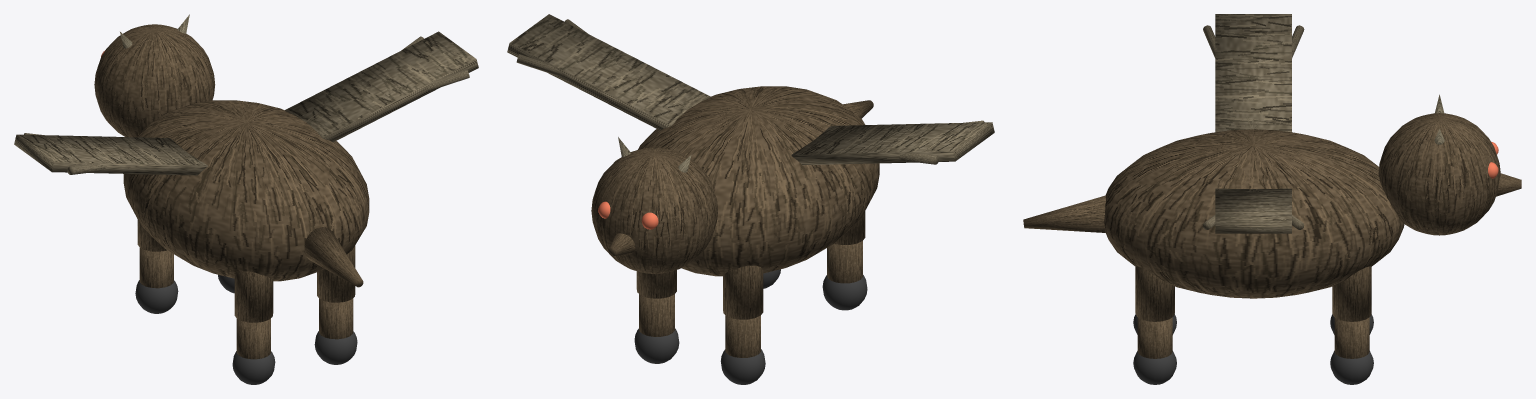
The model's file is ur-dragon.glb.
3 views of the same model, side by side, from view 1: azimuth 30°, elevation 25°; view 2: azimuth 150°, elevation 25°; view 3: azimuth 270°, elevation 25° (orthographic). The views are drawn at different scales.
Parts seen in each view (by area): view 1: Body, Head, Wing.001, Wing, LegUpper, Tail, LegLower.002, LegLower, LegLower.001, LegUpper.002, Paw.002, Paw (+3 smaller); view 2: Body, Head, Wing.001, Wing, LegUpper.001, LegLower.003, LegLower.001, LegLower, Paw, Paw.001, Paw.003, LegUpper.003 (+3 smaller); view 3: Body, Head, Wing, Wing.001, Tail, LegUpper.002, LegUpper.003, LegLower.002, LegLower.003, Paw.003, Paw.002.
Part boxes in pixels (box(x1,y1,x2,y2)): Body: box(123, 100, 369, 281); Head: box(94, 24, 215, 137); Wing.001: box(285, 31, 478, 142); Wing: box(14, 134, 207, 175); LegUpper: box(234, 271, 273, 322); Tail: box(304, 227, 363, 287); LegLower.002: box(319, 298, 353, 339); LegLower: box(236, 318, 270, 359); LegLower.001: box(139, 247, 173, 288); LegUpper.002: box(317, 245, 355, 302); Paw.002: box(314, 331, 357, 364); Paw: box(232, 351, 275, 384); Body: box(638, 86, 879, 276); Head: box(591, 147, 717, 273); Wing.001: box(507, 14, 710, 130); Wing: box(791, 122, 994, 165); LegUpper.001: box(723, 265, 763, 319); LegLower.003: box(639, 294, 674, 336); LegLower.001: box(725, 315, 760, 357); LegLower: box(827, 241, 862, 283); Paw: box(822, 275, 867, 310); Paw.001: box(720, 349, 765, 384); Paw.003: box(634, 328, 679, 363); LegUpper.003: box(636, 270, 676, 298); Body: box(1103, 129, 1404, 298); Head: box(1378, 113, 1500, 235); Wing: box(1215, 14, 1291, 132); Wing.001: box(1215, 188, 1291, 233); Tail: box(1023, 195, 1105, 232); LegUpper.002: box(1135, 266, 1174, 321); LegUpper.003: box(1332, 266, 1371, 321); LegLower.002: box(1137, 317, 1172, 358); LegLower.003: box(1334, 317, 1369, 358); Paw.003: box(1330, 350, 1373, 384); Paw.002: box(1133, 351, 1176, 384).
Size of the model in its own units: 1.77 by 0.9814 by 1.76.
Materials: 5 (3 with a texture image).
